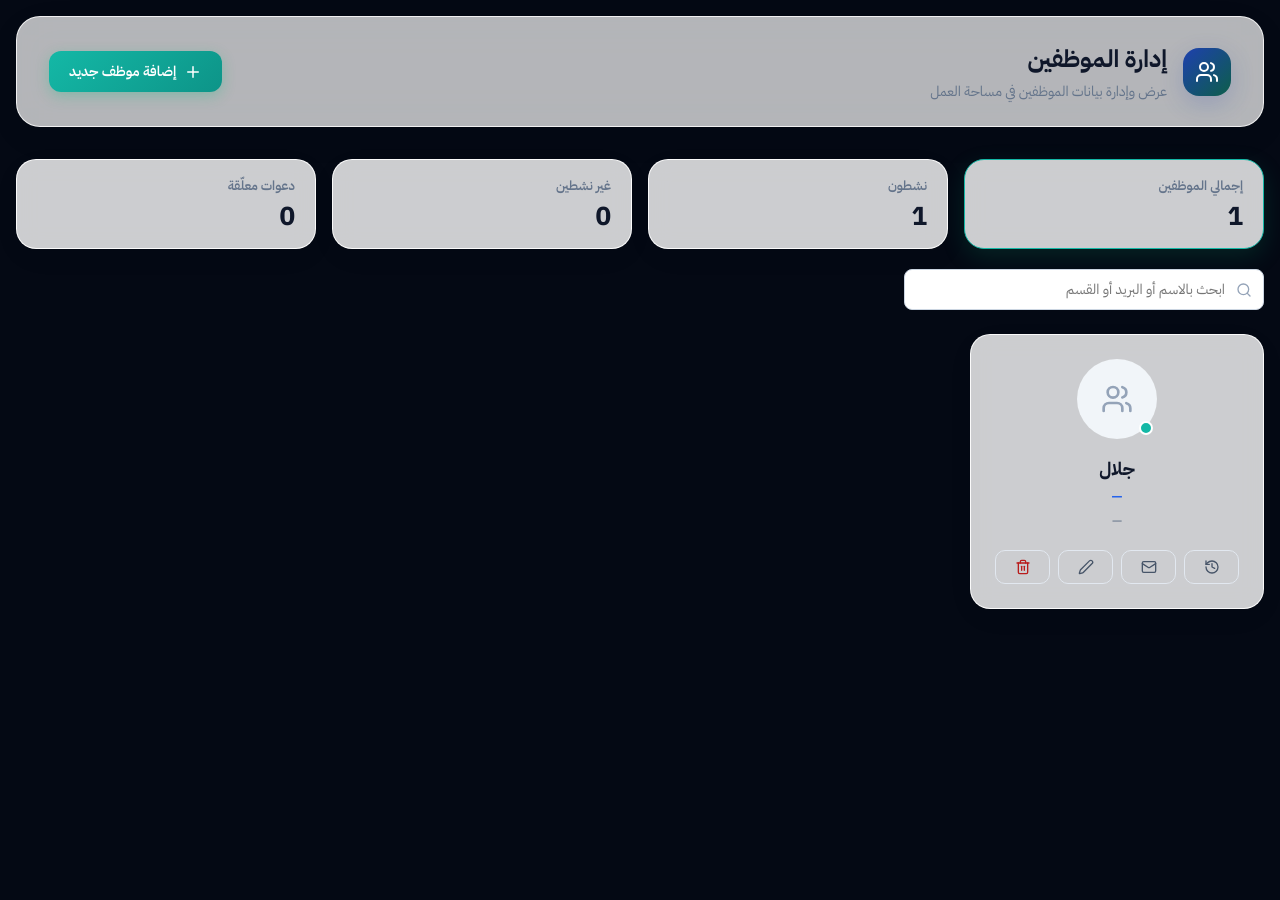
Test: role history on the employee card › an empty history says so
Click the button named "سجل دور جلال": click(1212, 567) [1184,550,1239,584]
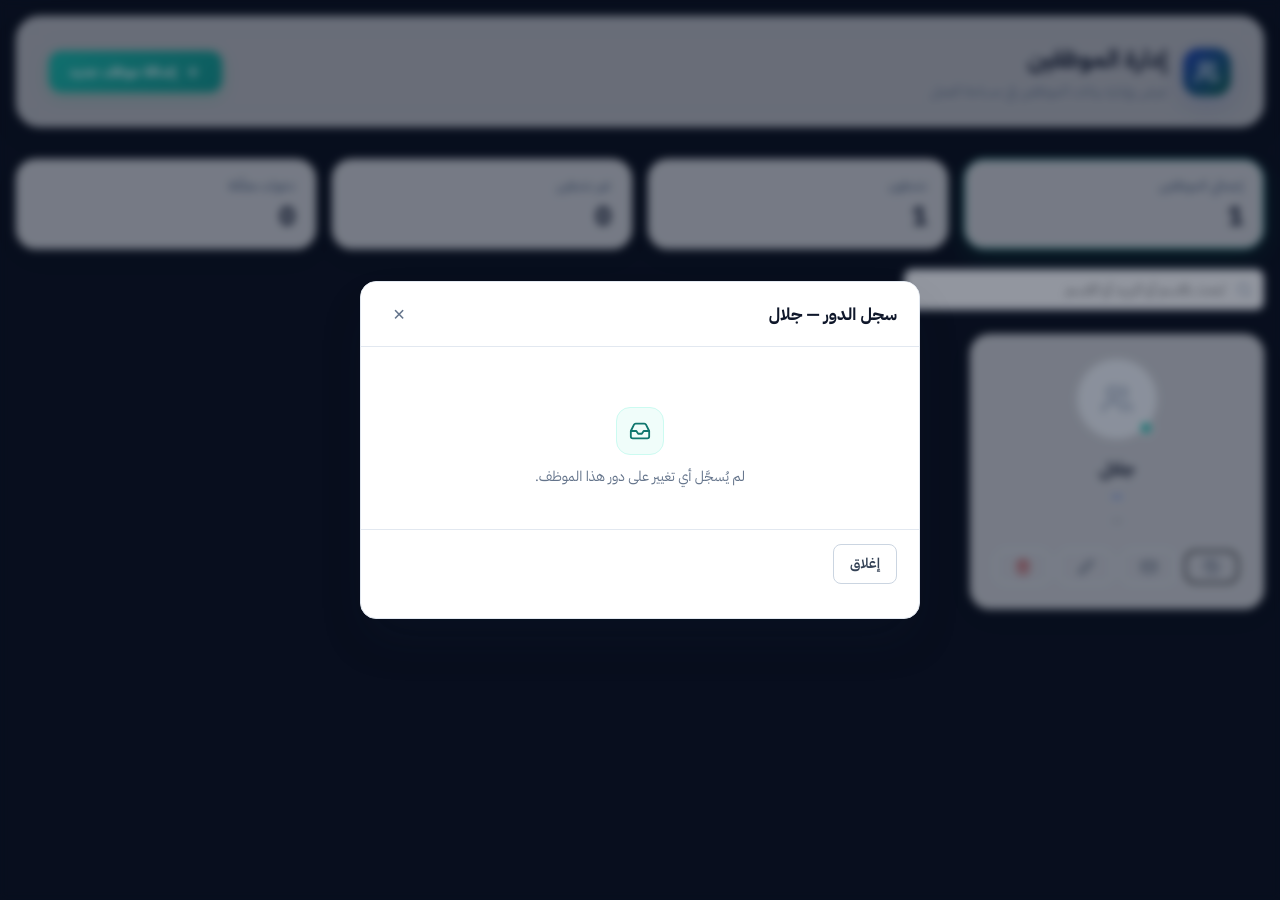
Now the text "لم يُسجَّل أي تغيير على دور هذا الموظف." is shown, box [535,465,745,489]
